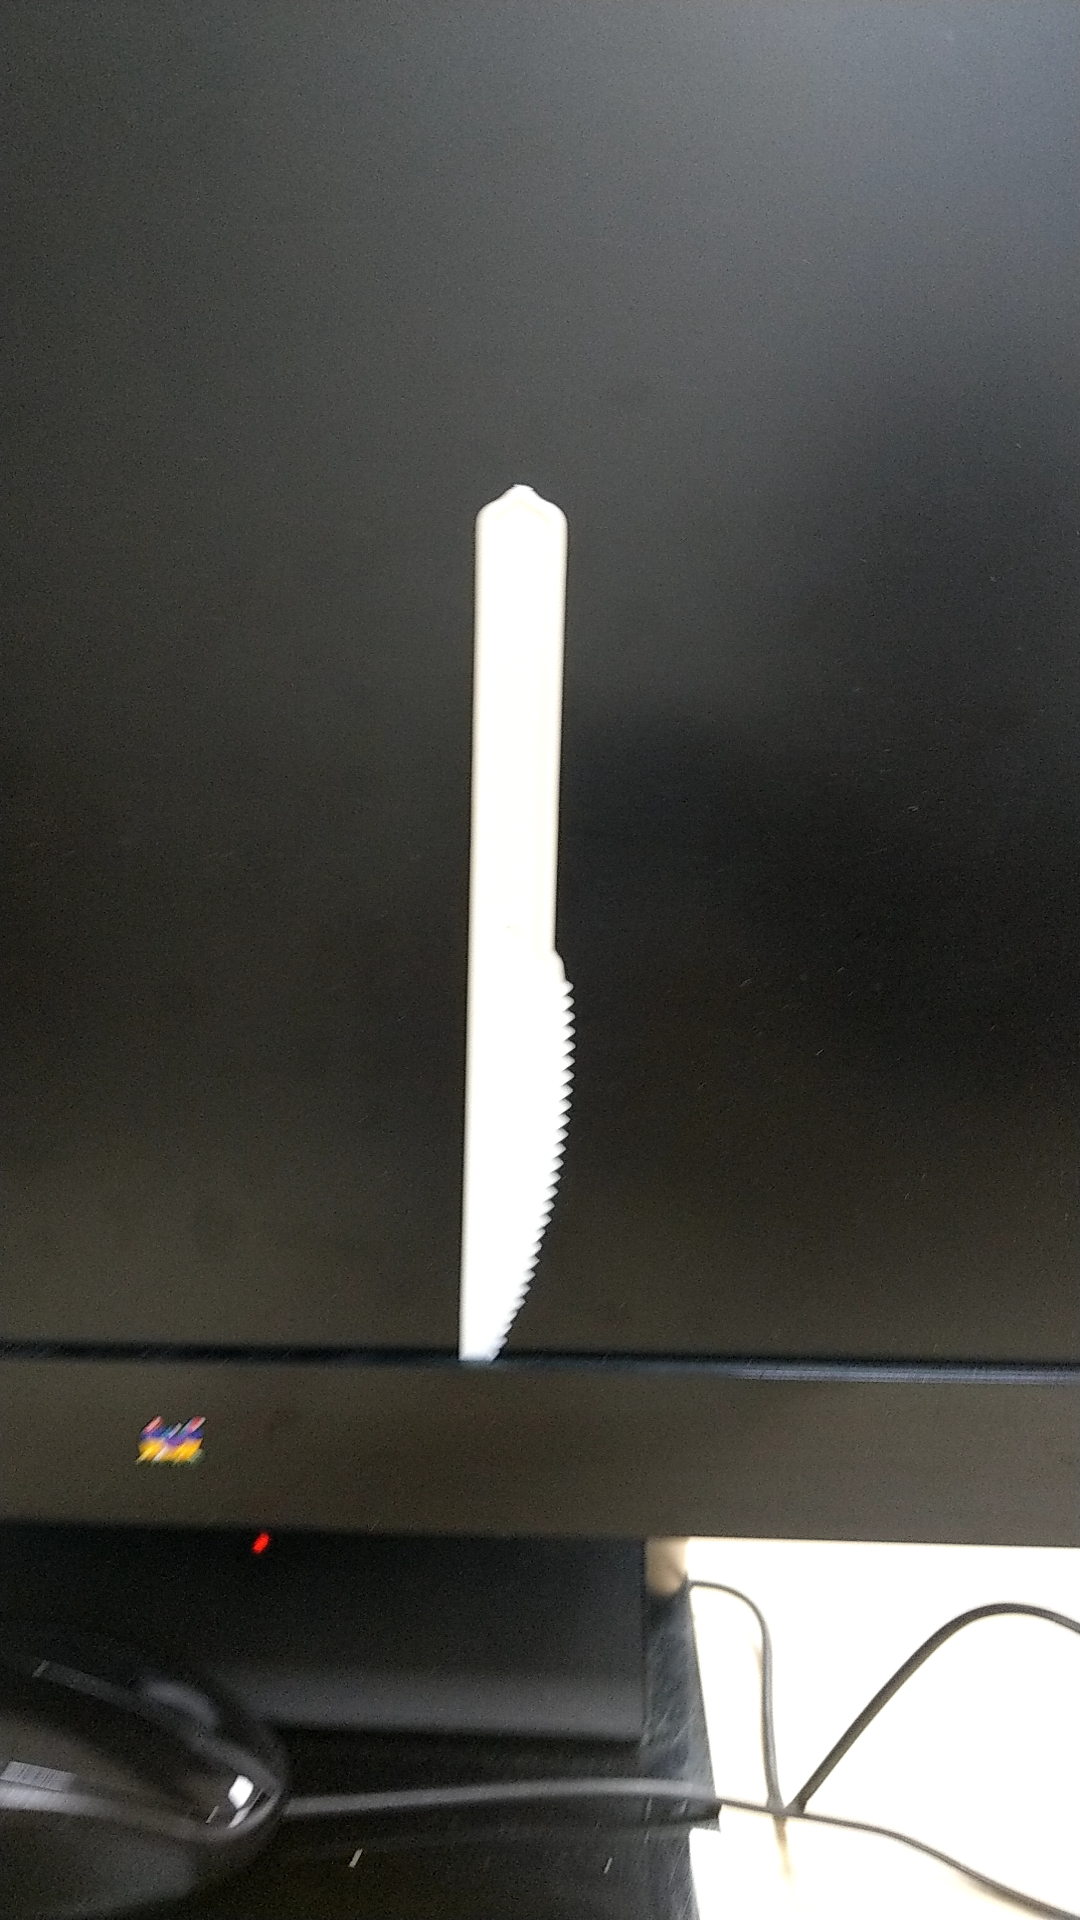knife: (409, 475, 603, 1367)
